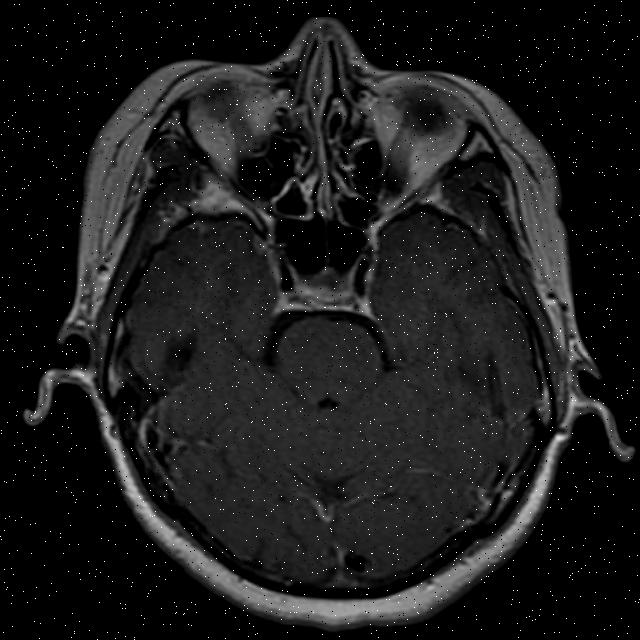Pituitary: (290, 262, 357, 309)
